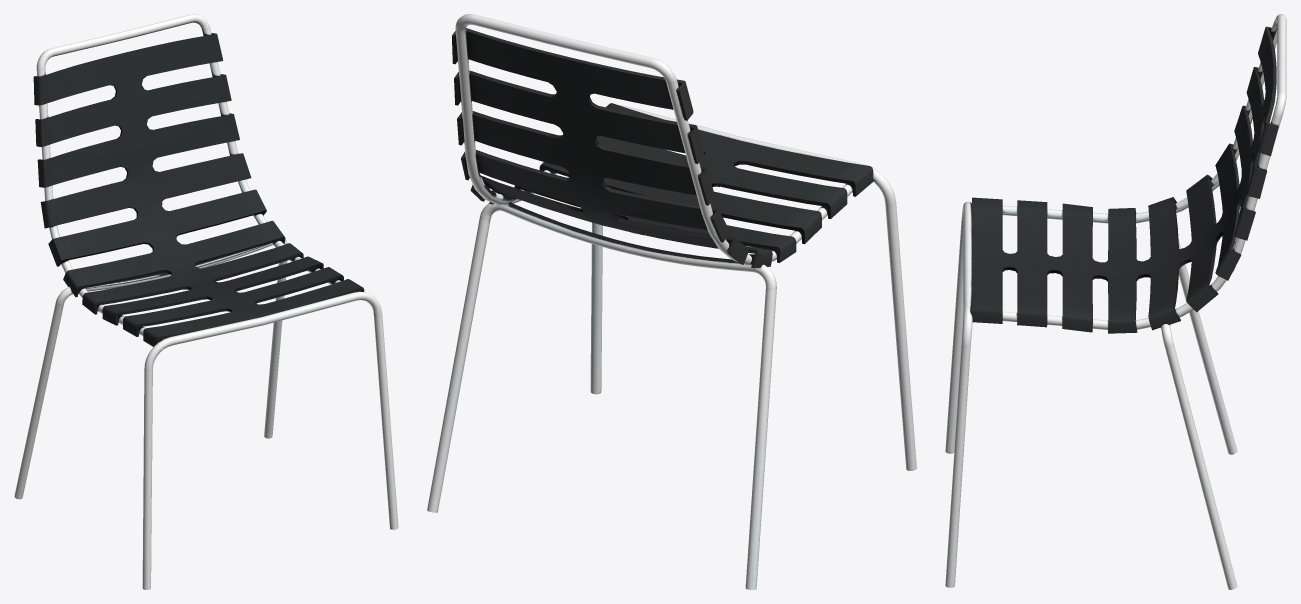
File: gubbio_white_chrome_plated.glb
The picture shows the model from 3 angles, left to right: view 1: azimuth 30°, elevation 25°; view 2: azimuth 150°, elevation 25°; view 3: azimuth 270°, elevation 25°; orthographic projection. The views are drawn at different scales.
Visible parts, largest first — view 1: gubbio-black; view 2: gubbio-black; view 3: gubbio-black.
Part boxes in pixels (<box>): gubbio-black: <box>14,14,398,589</box>; gubbio-black: <box>427,14,916,589</box>; gubbio-black: <box>945,14,1286,589</box>.
Bounding box in the file's own units: 0.5524 × 0.8611 × 0.57.
Materials: 1 (1 with a texture image).
